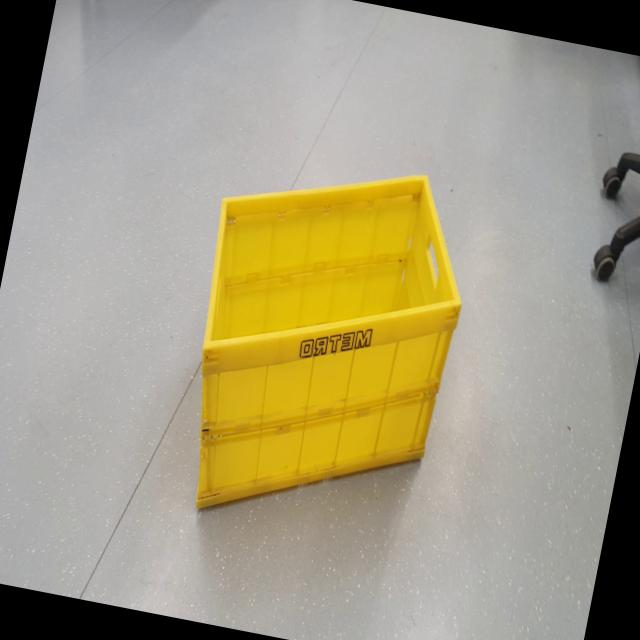box: (142, 114, 500, 583)
